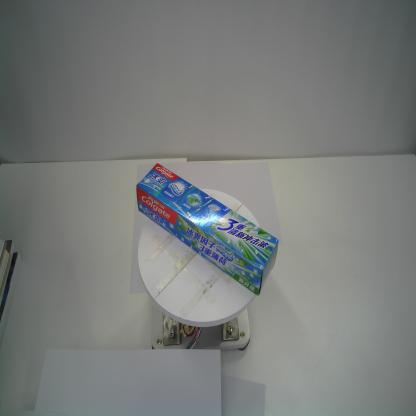Personal Hygiene: (136, 162, 279, 298)
